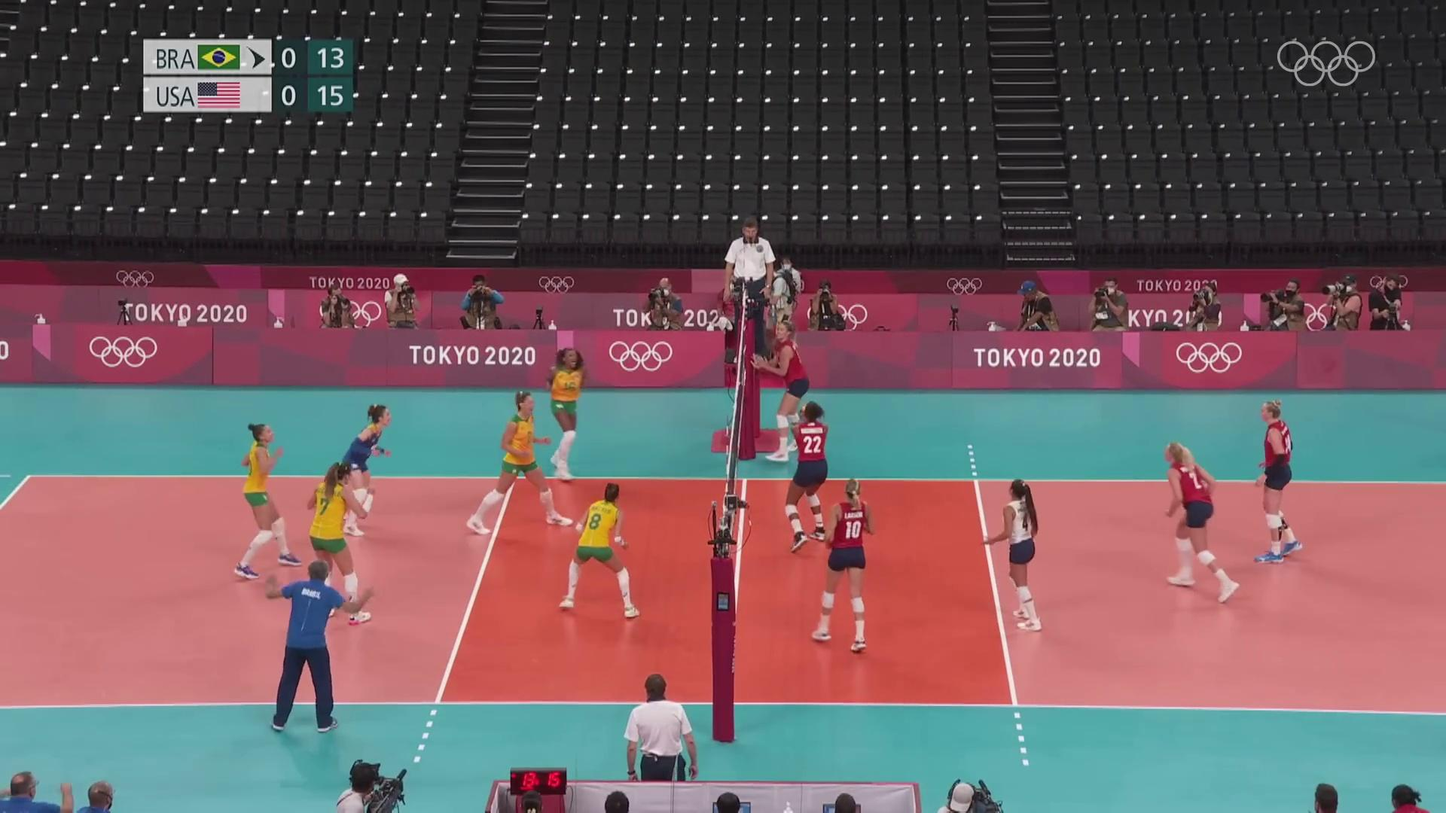player: (470, 392, 569, 532), (1162, 441, 1240, 605), (232, 422, 303, 581), (306, 464, 373, 625), (565, 485, 647, 615), (813, 480, 874, 654), (982, 480, 1044, 634), (1251, 401, 1306, 562), (756, 320, 810, 462), (784, 399, 829, 551), (340, 405, 393, 534), (547, 348, 588, 481)
refree: (627, 673, 698, 799), (724, 220, 775, 360)
